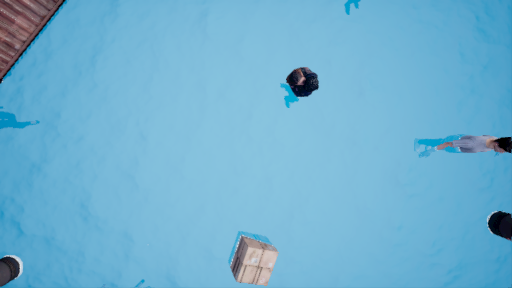person: (413, 129, 510, 169), (269, 62, 317, 112)
